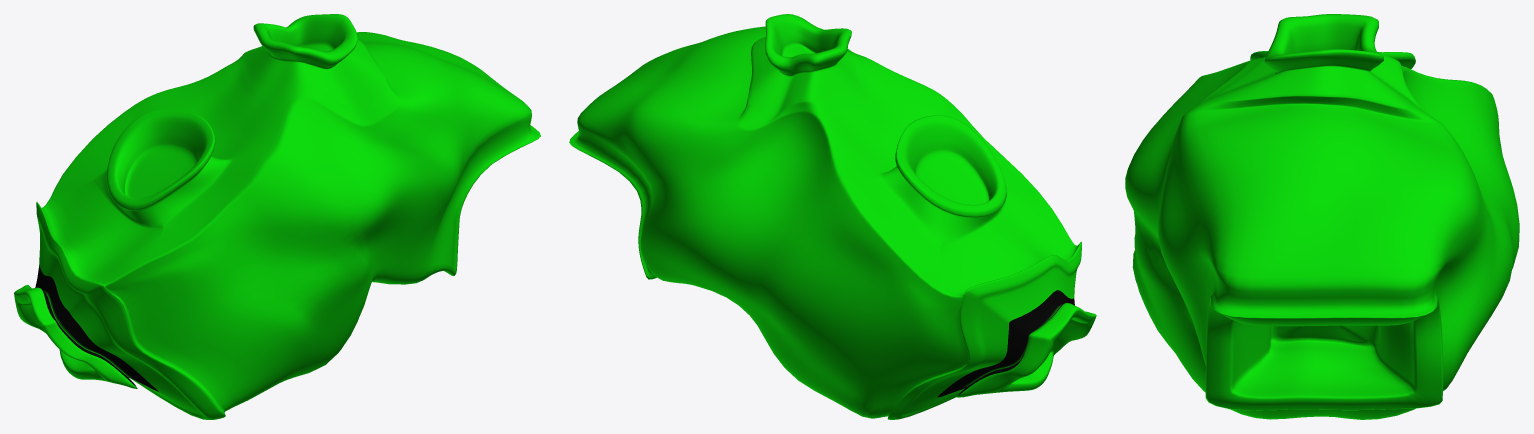
Rendered from Asteroid1.fbx.
3 views of the same model, side by side, from view 1: azimuth 30°, elevation 25°; view 2: azimuth 150°, elevation 25°; view 3: azimuth 270°, elevation 25° (orthographic). The views are drawn at different scales.
Visible parts, largest first — view 1: Asteroid1_1; view 2: Asteroid1_1; view 3: Asteroid1_1.
Part boxes in pixels (x1,y1,x2,y2): Asteroid1_1: [14, 14, 540, 419]; Asteroid1_1: [569, 14, 1096, 419]; Asteroid1_1: [1125, 14, 1519, 419].
Size of the model in its own units: 8.13 by 5.28 by 4.59.
